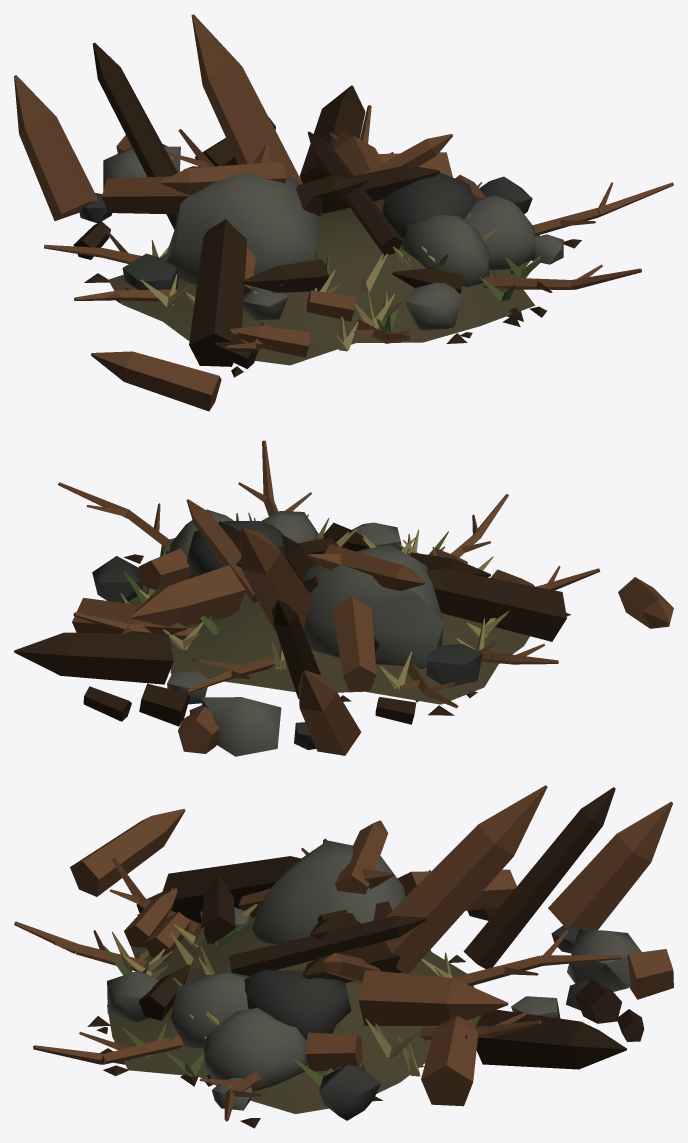
The model's file is ZonWall02a.glb.
The picture shows the model from 3 angles, top to bottom: view 1: azimuth 30°, elevation 25°; view 2: azimuth 150°, elevation 25°; view 3: azimuth 270°, elevation 25°; orthographic projection. The views are drawn at different scales.
Visible parts, largest first — view 1: pile_bed; view 2: pile_bed; view 3: pile_bed.
Part boxes in pixels (box(x1,y1,x2,y2)): pile_bed: box(14, 14, 673, 411); pile_bed: box(14, 440, 673, 756); pile_bed: box(14, 785, 673, 1128).
Bounding box in the file's own units: 5.09 × 1.65 × 4.44.
